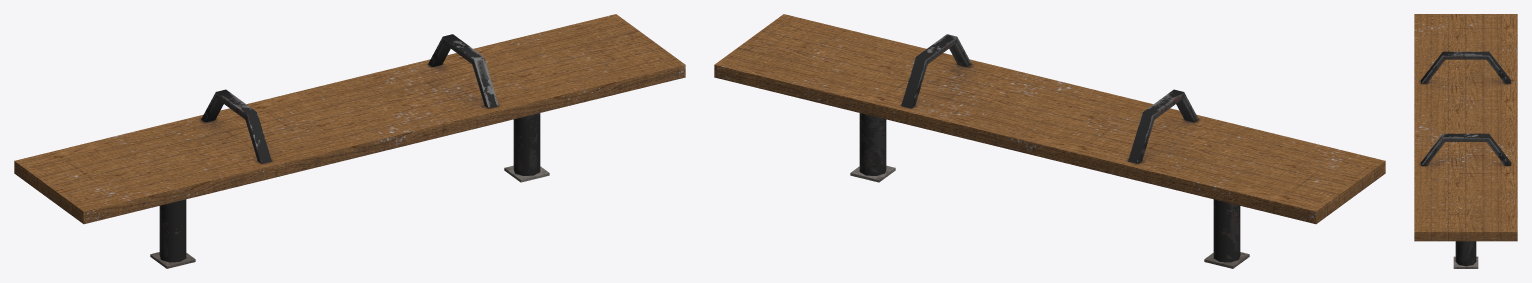
Rendered from jctBenchA.fbx.
The picture shows the model from 3 angles, left to right: view 1: azimuth 30°, elevation 25°; view 2: azimuth 150°, elevation 25°; view 3: azimuth 270°, elevation 25°; orthographic projection. The views are drawn at different scales.
Parts seen in each view (by area): view 1: jctBenchA; view 2: jctBenchA; view 3: jctBenchA.
Part boxes in pixels (x1,y1,x2,y2): jctBenchA: [14, 14, 685, 268]; jctBenchA: [714, 14, 1385, 268]; jctBenchA: [1414, 14, 1517, 268].
Bounding box in the file's own units: 250 × 56.24 × 50.
